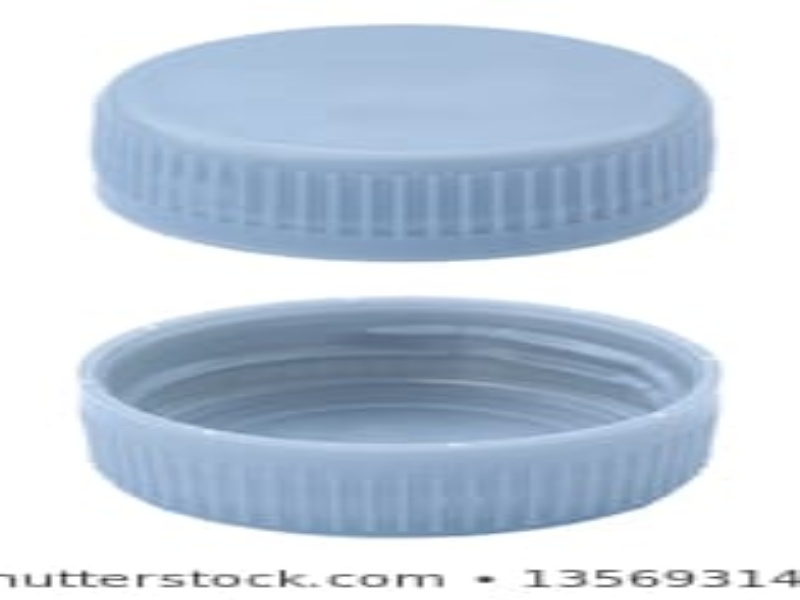bottle-cap: (71, 297, 730, 538), (89, 23, 717, 264)
